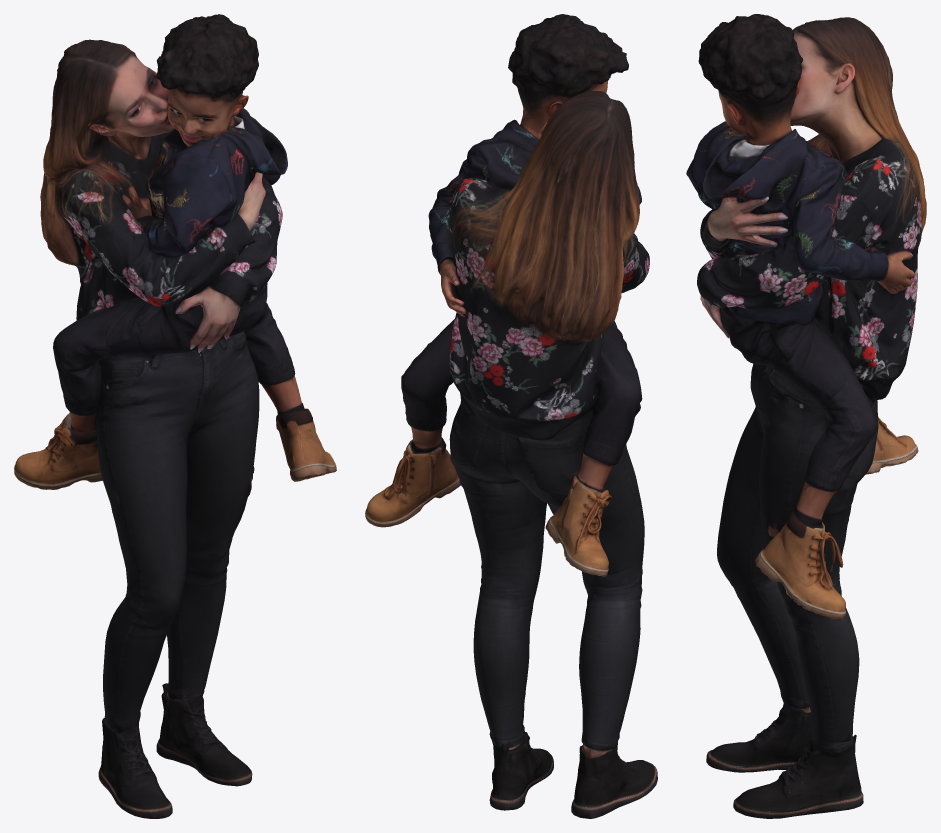
The model's file is fabienne.glb.
3 views of the same model, side by side, from view 1: azimuth 30°, elevation 25°; view 2: azimuth 150°, elevation 25°; view 3: azimuth 270°, elevation 25° (orthographic). The views are drawn at different scales.
Parts seen in each view (by area): view 1: rp_fabienne_percy_posed_001_60k; view 2: rp_fabienne_percy_posed_001_60k; view 3: rp_fabienne_percy_posed_001_60k.
Part boxes in pixels (x1,y1,x2,y2): rp_fabienne_percy_posed_001_60k: [14, 14, 336, 818]; rp_fabienne_percy_posed_001_60k: [365, 14, 657, 818]; rp_fabienne_percy_posed_001_60k: [686, 14, 926, 818].
Bounding box in the file's own units: 65.4 × 171 × 47.82.
1 material, 1 textured.
